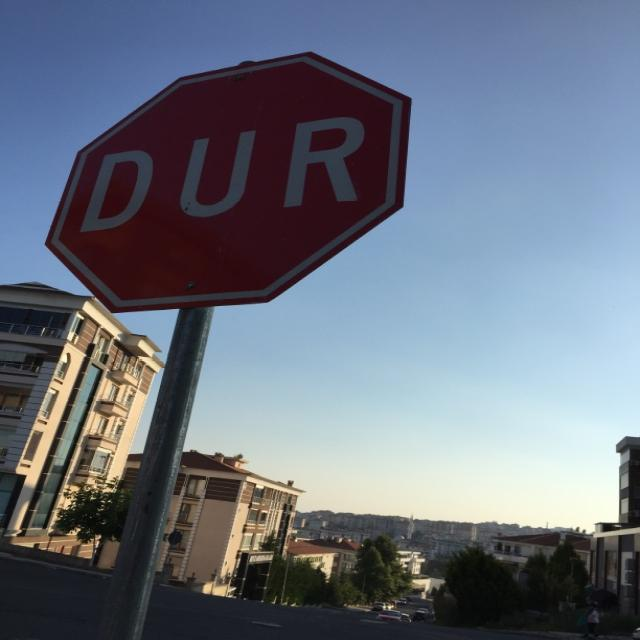dur: (44, 52, 410, 310)
